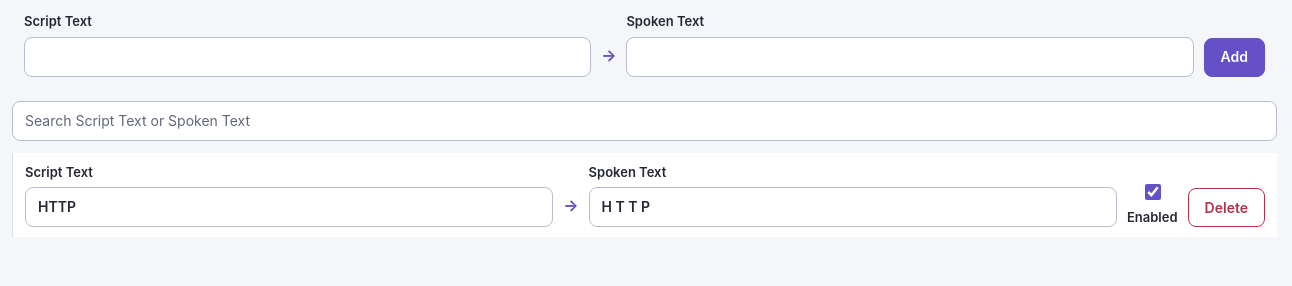
LexiconEditor › supports JSON entries without IDs
Clear the field labelled "Spoken Text" next to "Enabled" at (853, 207), box x1=589 y1=187 x2=1117 y2=227
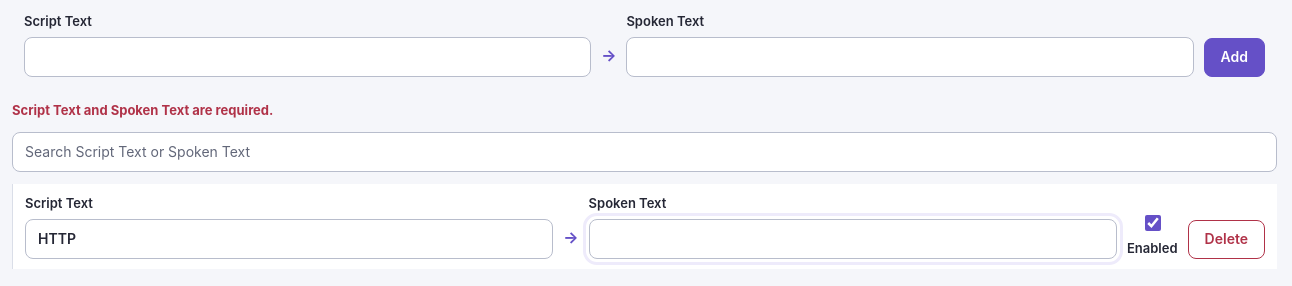
Type "hypertext transfer protocol" into the field labelled "Spoken Text" next to "Enabled" at (853, 238), box x1=589 y1=218 x2=1117 y2=258
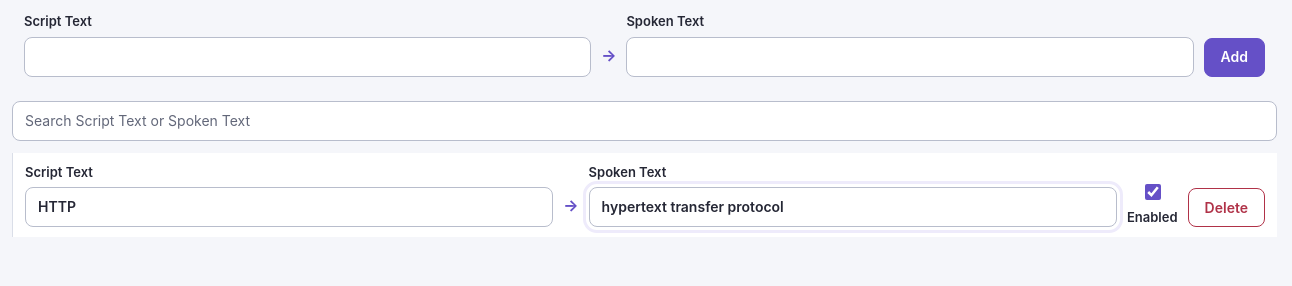
Click the checkbox labelled "Enabled" at (1153, 192), box x1=1131 y1=184 x2=1175 y2=200
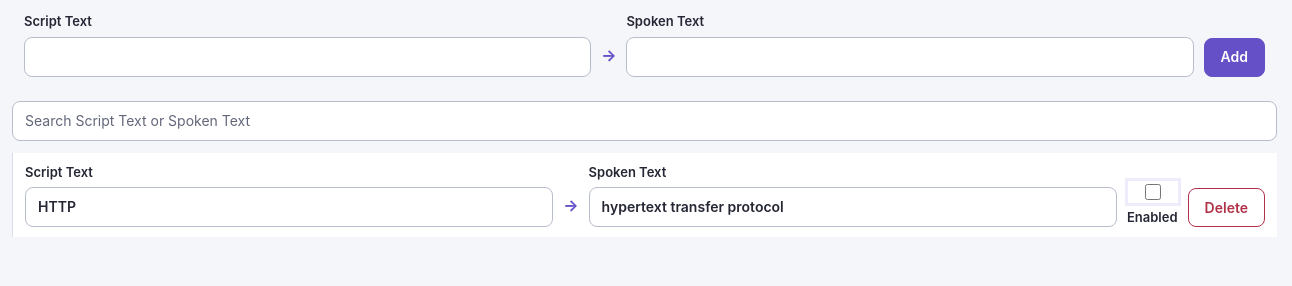
Now the checkbox labelled "Enabled" is not checked, box x1=1131 y1=184 x2=1175 y2=200
Click the button "Delete" at (1226, 208), box x1=1188 y1=188 x2=1265 y2=227
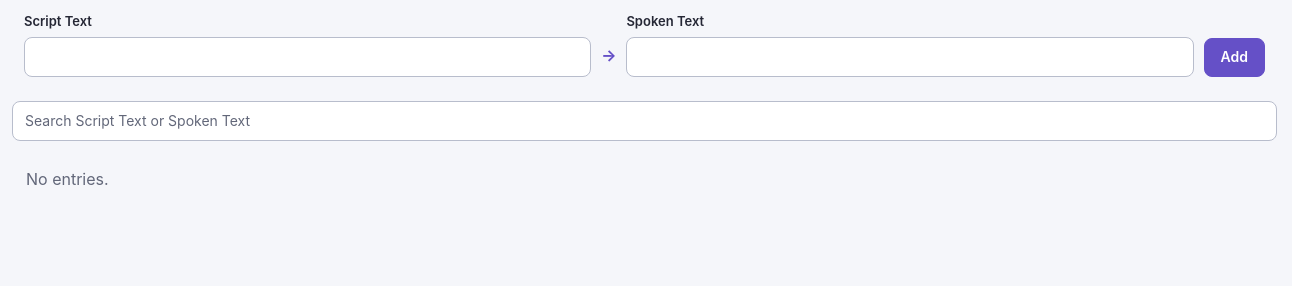
Now the text "No entries." is shown, box x1=12 y1=152 x2=1277 y2=204
